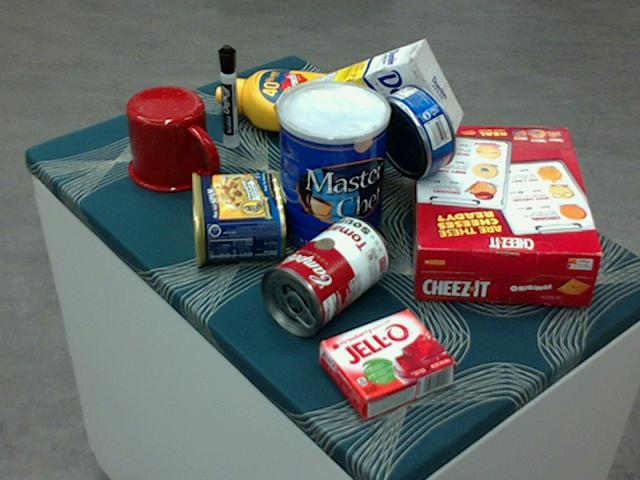cracker_box: (409, 124, 600, 305)
gelatin_box: (319, 308, 455, 418)
large_marker: (217, 44, 240, 148)
master_chef_can: (276, 82, 389, 263)
mug: (126, 85, 216, 192)
mustard_bottle: (214, 68, 382, 139)
potted_meat_can: (188, 171, 285, 267)
sugar_box: (269, 39, 462, 173)
tomato_soup_can: (258, 216, 389, 334)
tuna_fish_can: (373, 82, 456, 177)
